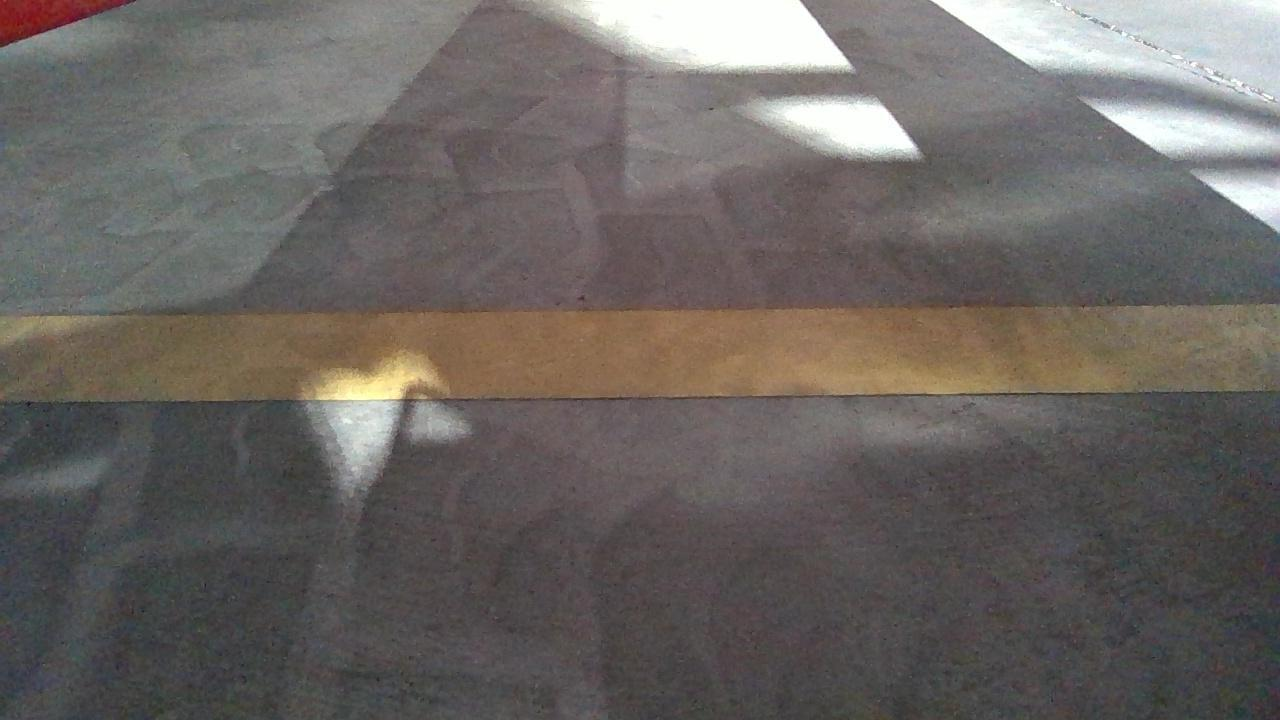yellow_line: (1, 313, 1280, 398)
